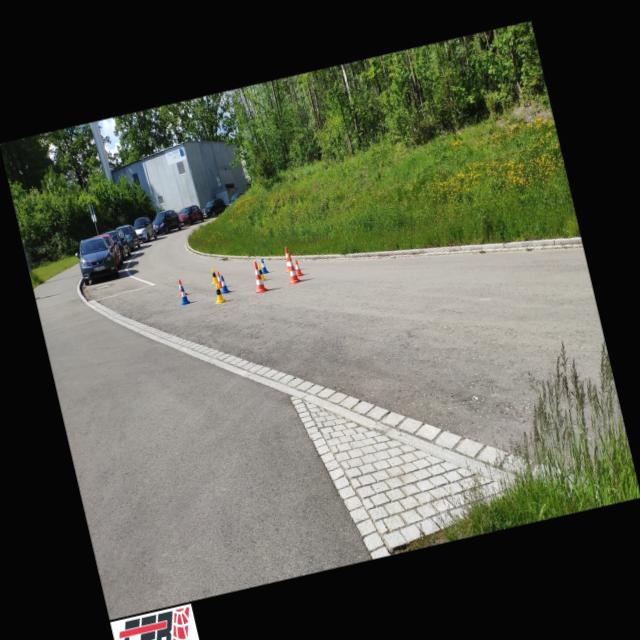blue_cone: (177, 284, 190, 304), (218, 274, 230, 294), (259, 258, 268, 273)
large_orange_cone: (248, 260, 268, 294), (282, 252, 301, 284), (280, 246, 294, 272)
orange_cone: (599, 476, 625, 505), (176, 278, 187, 296), (292, 259, 302, 276), (215, 271, 222, 287)
yellow_cone: (212, 282, 225, 303), (209, 268, 218, 284), (257, 264, 265, 280)
